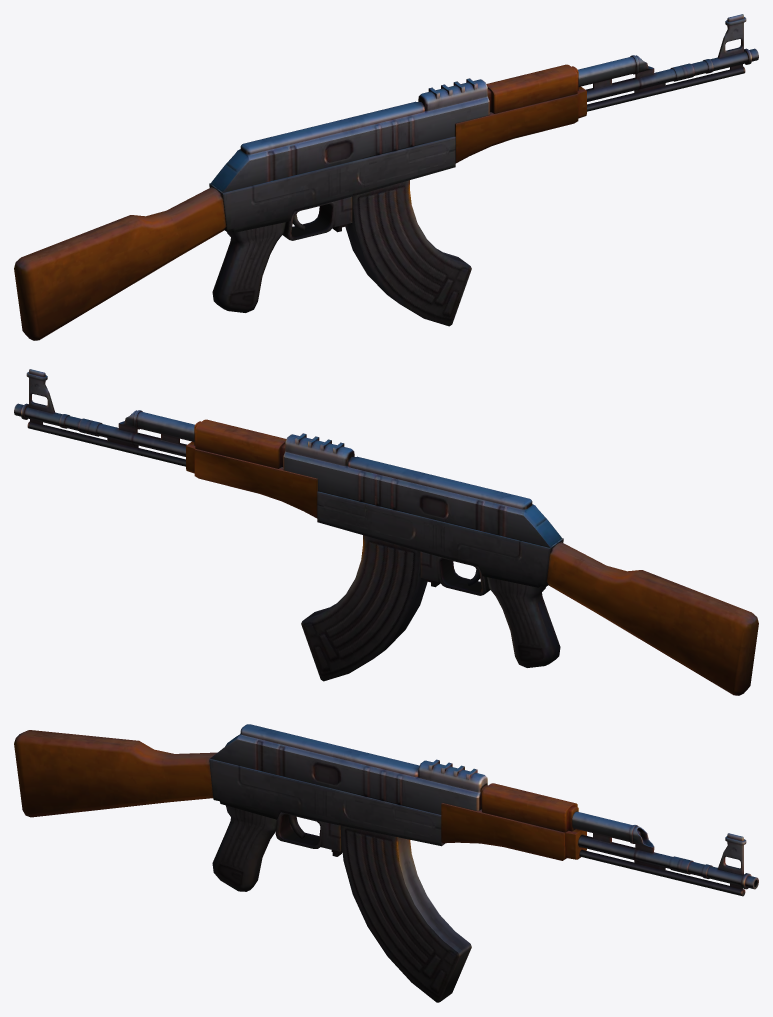
3 views of the same model, one above another, from view 1: azimuth 30°, elevation 25°; view 2: azimuth 150°, elevation 25°; view 3: azimuth 330°, elevation 25° (orthographic).
Visible parts, largest first — view 1: ak47, akderriere_low, akmagazine_low; view 2: ak47, akderriere_low, akmagazine_low; view 3: ak47, akderriere_low, akmagazine_low.
Part boxes in pixels (<box>): ak47: <box>209,14,758,312</box>; akderriere_low: <box>14,187,226,340</box>; akmagazine_low: <box>345,180,471,326</box>; ak47: <box>14,369,563,667</box>; akderriere_low: <box>546,542,758,695</box>; akmagazine_low: <box>301,535,427,681</box>; ak47: <box>209,724,758,896</box>; akderriere_low: <box>14,730,216,817</box>; akmagazine_low: <box>340,825,471,1002</box>.
Size of the model in its own units: 0.743 by 0.2256 by 0.0253.
1 material, 1 textured.
